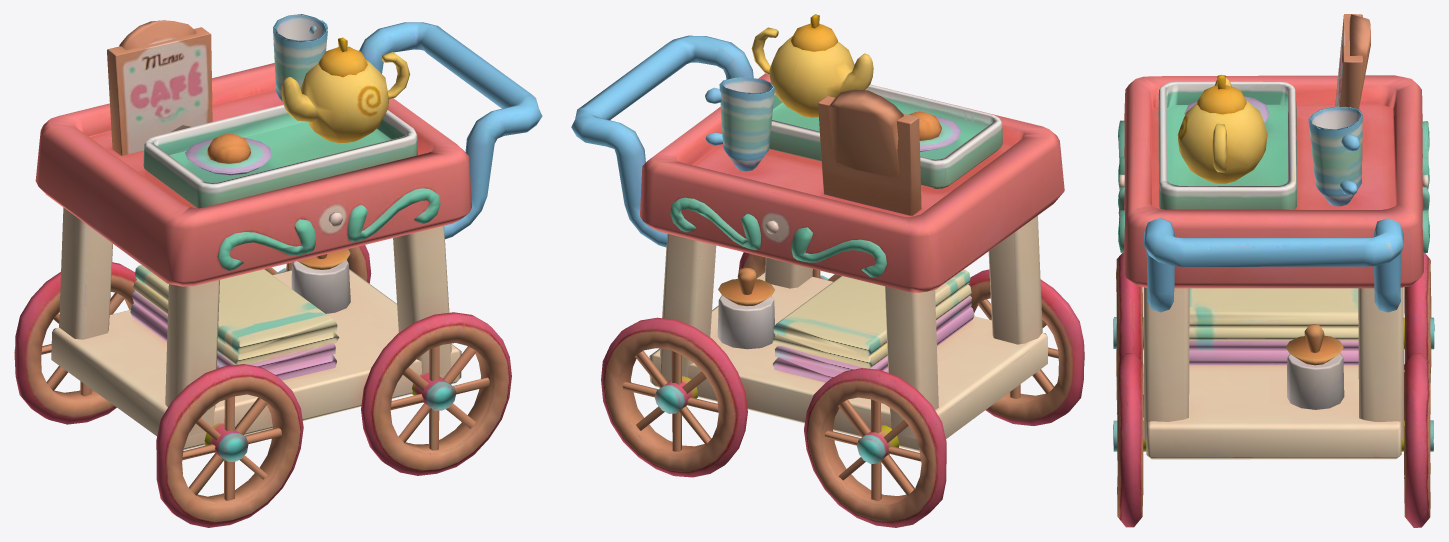
Rendered from cafe-pastry-cart.glb.
3 renders of one model, left to right at view 1: azimuth 30°, elevation 25°; view 2: azimuth 150°, elevation 25°; view 3: azimuth 270°, elevation 25°, orthographic. The views are drawn at different scales.
Parts seen in each view (by area): view 1: geometry_0; view 2: geometry_0; view 3: geometry_0.
Part boxes in pixels (box(x1,y1,x2,y2)): geometry_0: box(14, 14, 542, 527); geometry_0: box(571, 14, 1084, 527); geometry_0: box(1113, 14, 1434, 527).
Size of the model in its own units: 1 by 0.989 by 0.6821.
Materials: 1 (1 with a texture image).
